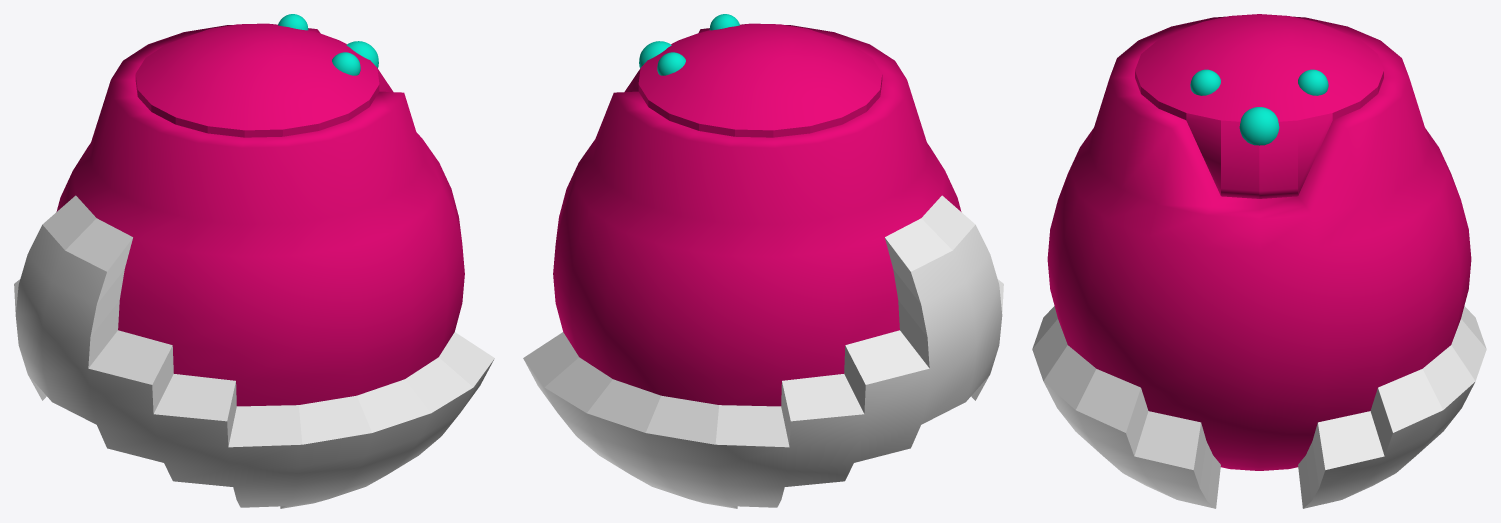
The model's file is coreunit_01_incolor_02.fbx.
3 views of the same model, side by side, from view 1: azimuth 30°, elevation 25°; view 2: azimuth 150°, elevation 25°; view 3: azimuth 270°, elevation 25° (orthographic).
Parts seen in each view (by area): view 1: polySurface1; view 2: polySurface1; view 3: polySurface1.
Boxes of the visible parts, x1,y1,x2,y2 form: polySurface1: (14, 14, 494, 508); polySurface1: (523, 14, 1003, 508); polySurface1: (1032, 14, 1486, 508).
Size of the model in its own units: 2.24 by 2.23 by 2.14.
